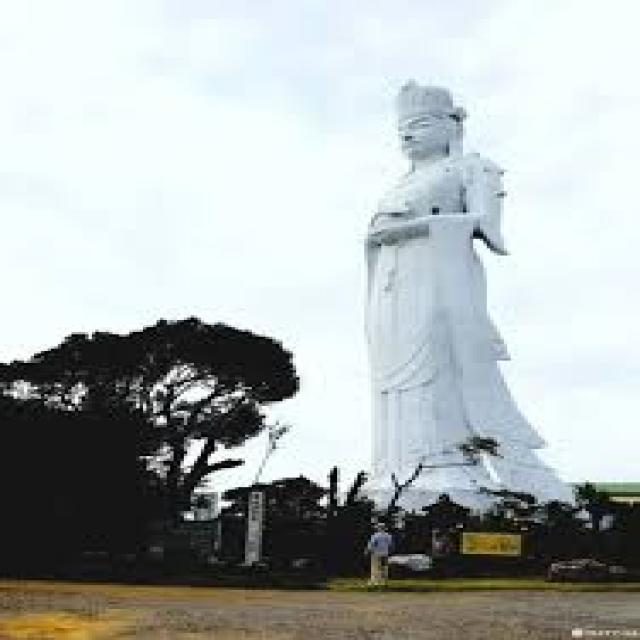Guan Yin: (353, 76, 566, 502)
